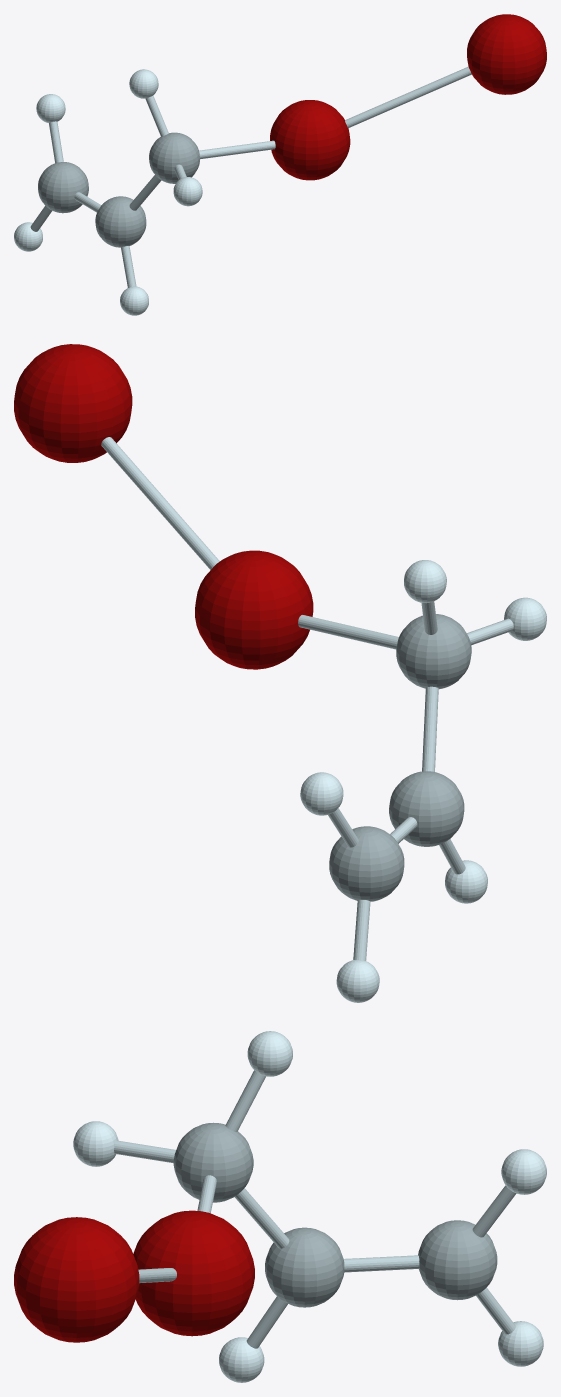
The model's file is irc_step_142.glb.
The picture shows the model from 3 angles, top to bottom: view 1: azimuth 30°, elevation 25°; view 2: azimuth 150°, elevation 25°; view 3: azimuth 270°, elevation 25°; orthographic projection. The views are drawn at different scales.
Parts seen in each view (by area): view 1: Renderer Node; view 2: Renderer Node; view 3: Renderer Node.
Boxes of the visible parts, x1,y1,x2,y2 form: Renderer Node: (14,14,546,315); Renderer Node: (14,344,546,1002); Renderer Node: (14,1031,546,1382).
Bounding box in the file's own units: 6.02 × 3.86 × 4.66.
